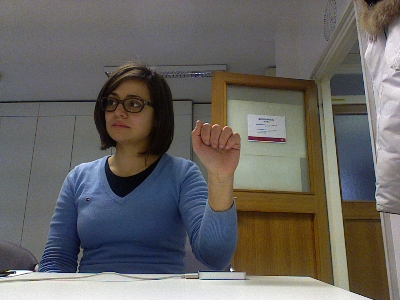石头: (188, 117, 241, 174)
